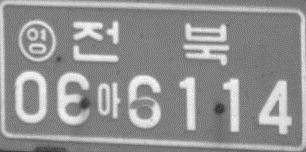0: (13, 70, 48, 124)
1: (213, 76, 250, 134), (170, 76, 206, 132)
4: (256, 79, 294, 134)
6: (55, 70, 90, 126), (126, 74, 161, 129)
아: (96, 81, 121, 118)
영: (17, 19, 56, 62)
전북_D: (70, 19, 230, 66)
